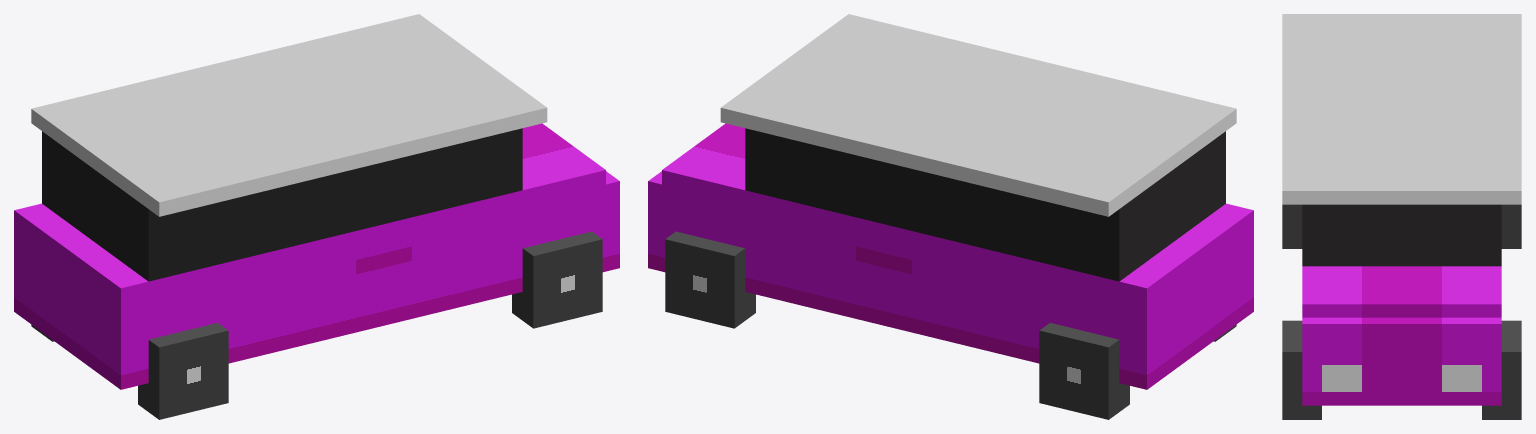
Rendered from car_1.gltf.
3 views of the same model, side by side, from view 1: azimuth 30°, elevation 25°; view 2: azimuth 150°, elevation 25°; view 3: azimuth 270°, elevation 25° (orthographic). The views are drawn at different scales.
Visible parts, largest first — view 1: cube; view 2: cube; view 3: cube.
Boxes of the visible parts, x1,y1,x2,y2 form: cube: (14, 14, 619, 419); cube: (648, 14, 1253, 419); cube: (1282, 14, 1521, 419).
Size of the model in its own units: 2.25 by 0.9375 by 1.
1 material, 1 textured.
